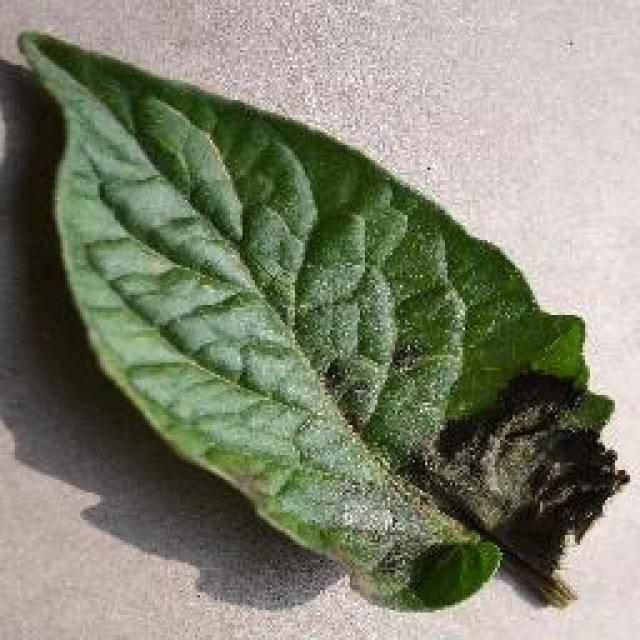Tomato Late Blight: (198, 208, 617, 594)
